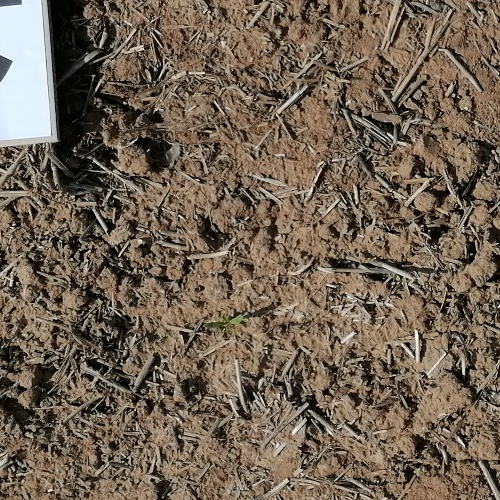beet: (202, 311, 245, 337)
